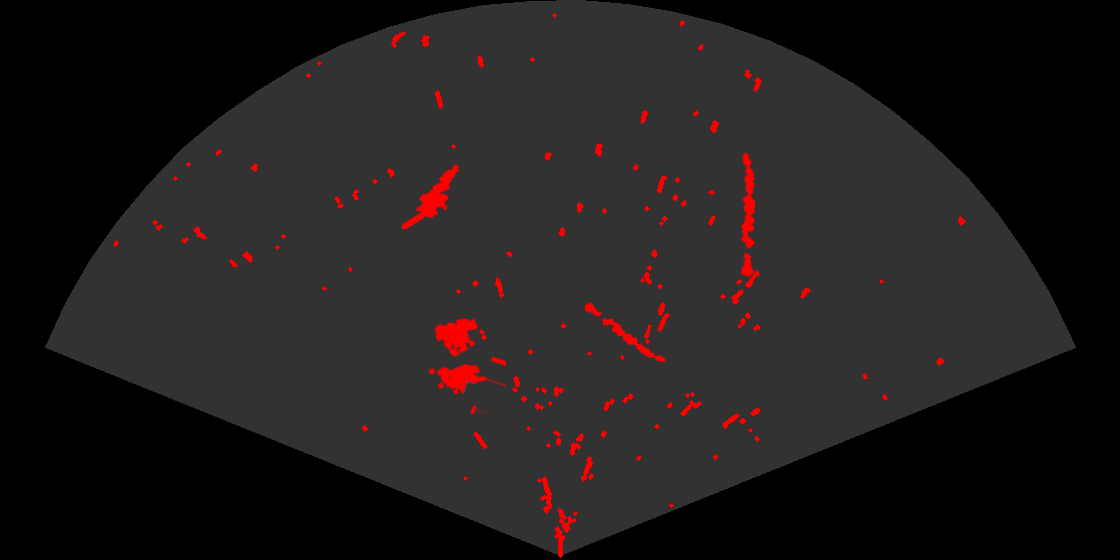cage: (427, 316, 506, 414)
chain: (583, 301, 667, 364), (739, 151, 757, 278)
frogman: (402, 163, 461, 229)
